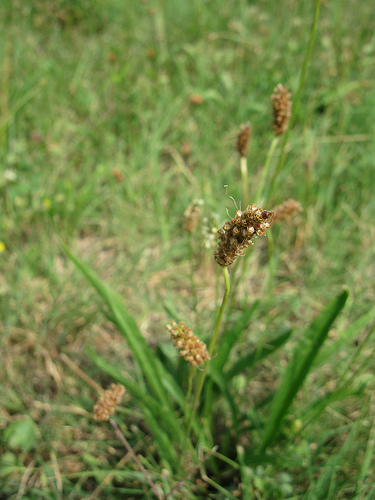buckhorn plantain: (198, 179, 287, 327), (222, 68, 309, 182), (160, 318, 225, 400)
